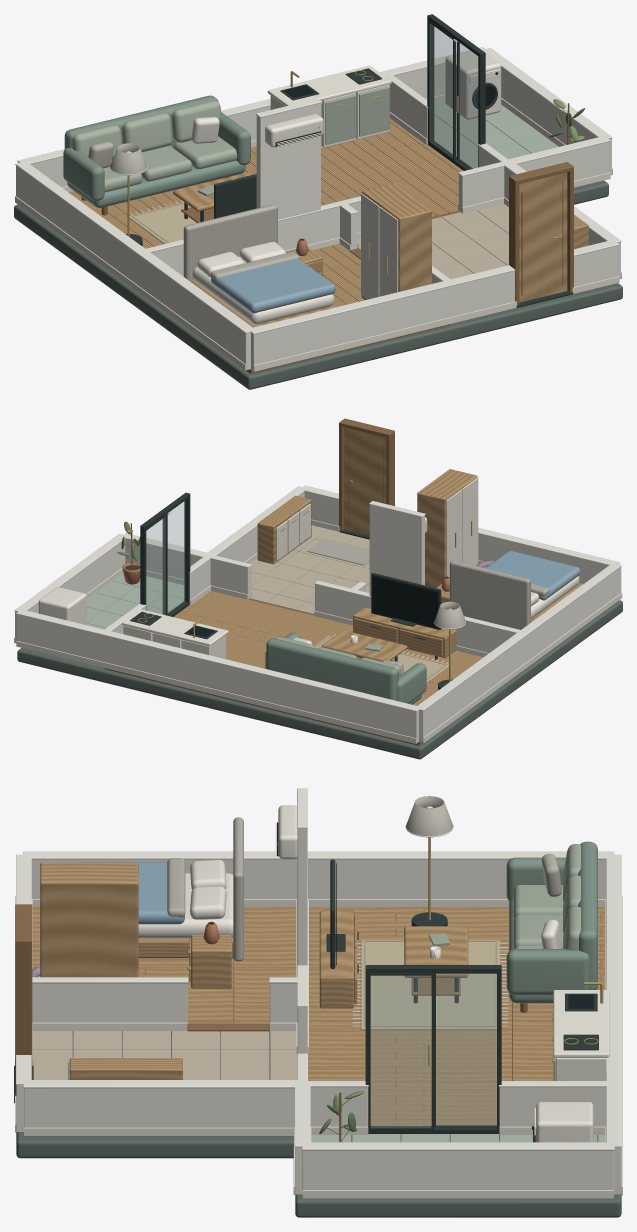
File: future-home-v0.1.glb
3 views of the same model, one above another, from view 1: azimuth 30°, elevation 25°; view 2: azimuth 150°, elevation 25°; view 3: azimuth 270°, elevation 25° (orthographic). The views are drawn at different scales.
Visible parts, largest first — view 1: living_room, architecture, bedroom, living_room__floor, wall_south_west__lower, wall_west__lower, entry_door__leaf, ac_mount_wall, entryway__floor, balcony__floor, bed_duvet, wall_west__cap (+25 smaller); view 2: living_room, architecture, wall_north__lower, bedroom, living_room__floor, wall_west__lower, entryway__floor, ac_mount_wall, entry_door__leaf, balcony__floor, wall_north__cap, wall_living_partition_a__lower (+23 smaller); view 3: living_room, living_room__floor, architecture, bedroom, wall_balcony_east__lower, wall_west__lower, wall_entry_east__lower, entryway__floor, balcony_sliding_glass, balcony_fixed_glass, bedroom__floor, living_rug (+27 smaller).
Part boxes in pixels (box(x1,y1,x2,y2)): living_room: box(63, 65, 460, 242); architecture: box(14, 94, 622, 389); bedroom: box(183, 183, 449, 373); living_room__floor: box(69, 118, 463, 248); wall_south_west__lower: box(251, 271, 514, 370); wall_west__lower: box(16, 166, 250, 370); entry_door__leaf: box(519, 172, 567, 302); ac_mount_wall: box(256, 103, 320, 219); entryway__floor: box(357, 204, 508, 279); balcony__floor: box(434, 100, 558, 168); bed_duvet: box(211, 259, 335, 313); wall_west__cap: box(15, 162, 254, 333); living_room: box(104, 573, 456, 745); architecture: box(14, 519, 622, 759); wall_north__lower: box(16, 614, 418, 742); bedroom: box(417, 469, 582, 629); living_room__floor: box(173, 591, 482, 705); wall_west__lower: box(419, 567, 621, 742); entryway__floor: box(249, 525, 369, 614); ac_mount_wall: box(369, 505, 424, 596); entry_door__leaf: box(344, 427, 386, 535); balcony__floor: box(86, 573, 184, 629); wall_north__cap: box(16, 609, 420, 711); wall_living_partition_a__lower: box(315, 584, 515, 652); living_room: box(319, 841, 609, 1138); living_room__floor: box(308, 907, 605, 1125); architecture: box(15, 896, 622, 1217); bedroom: box(38, 817, 269, 1034); wall_balcony_east__lower: box(302, 1150, 613, 1189); wall_west__lower: box(31, 859, 605, 898); wall_entry_east__lower: box(24, 1088, 294, 1127); entryway__floor: box(32, 1031, 296, 1079); balcony_sliding_glass: box(371, 976, 430, 1127); balcony_fixed_glass: box(437, 974, 495, 1125); bedroom__floor: box(32, 907, 296, 1023); living_rug: box(360, 940, 500, 1030).
Size of the model in its own units: 8.62 by 2.85 by 7.43.
Materials: 26 (2 with a texture image).
